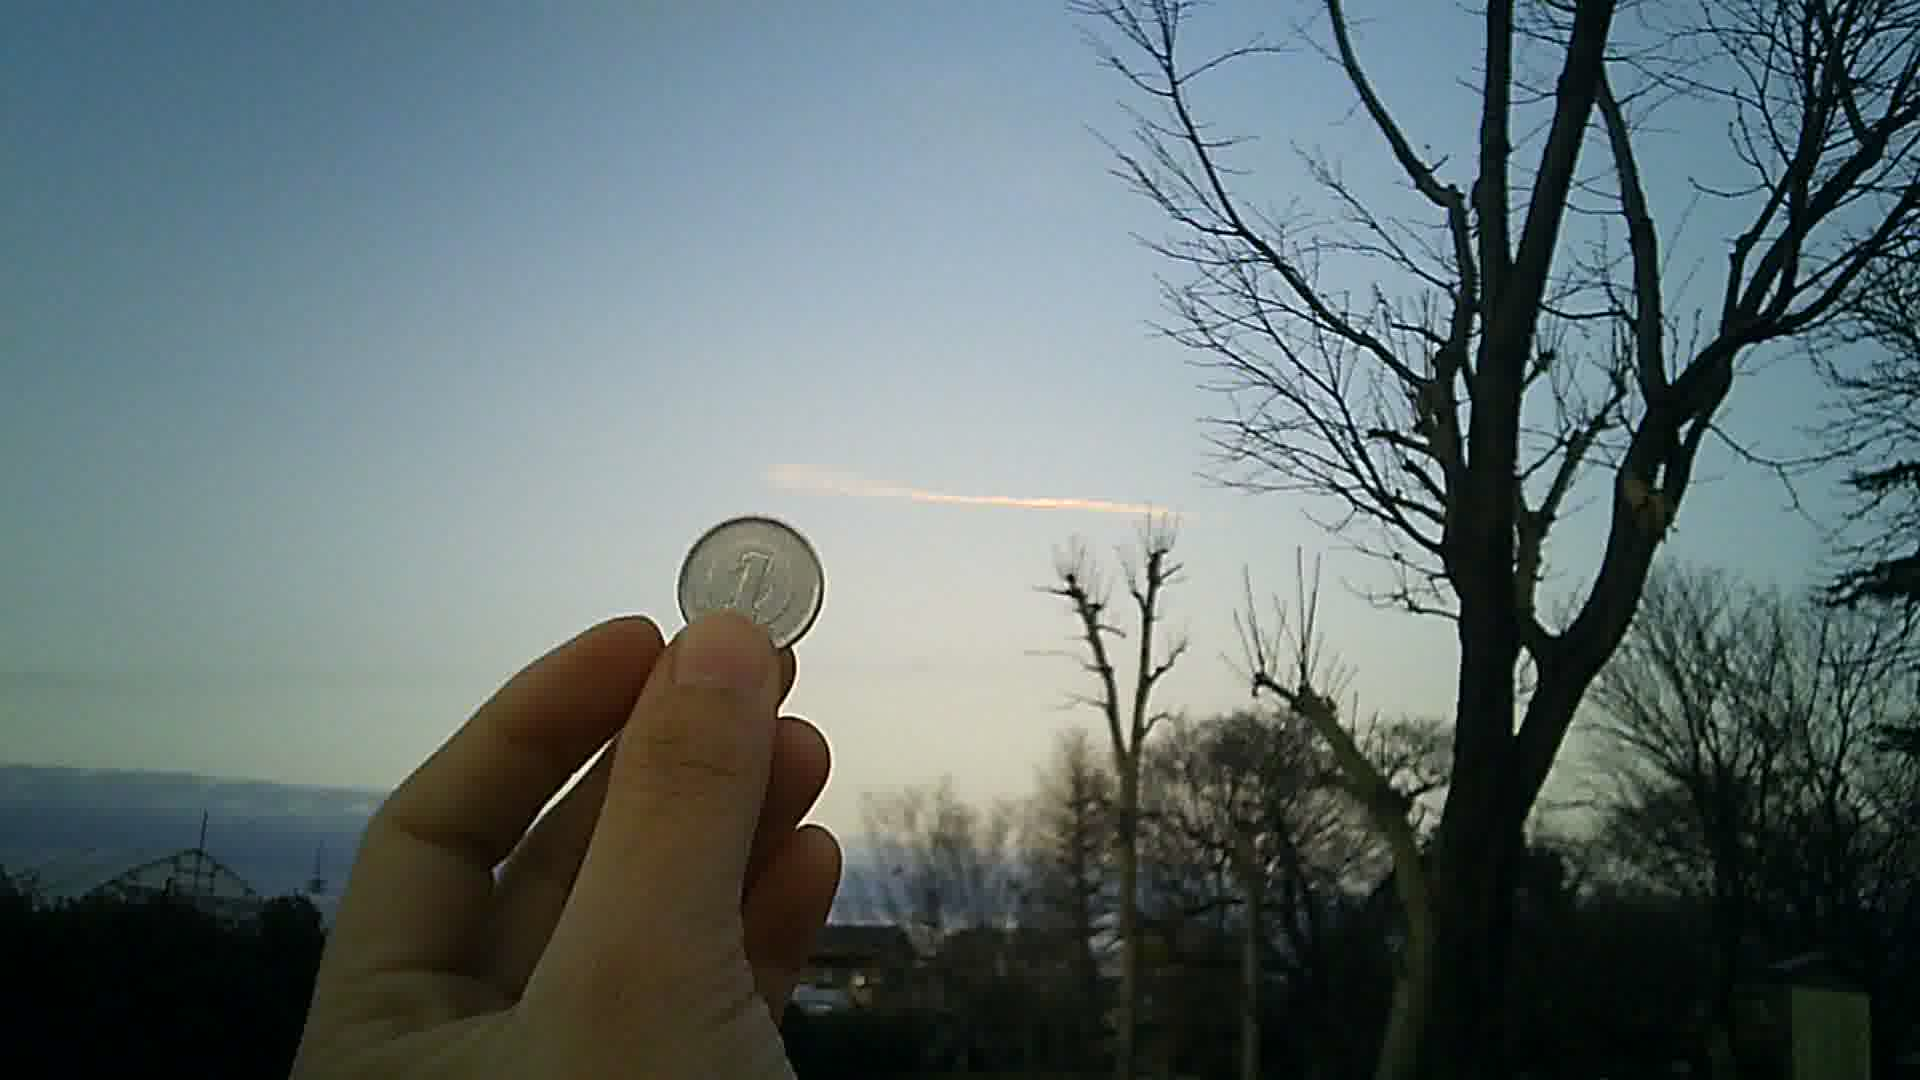1 Yen: (673, 509, 832, 659)
